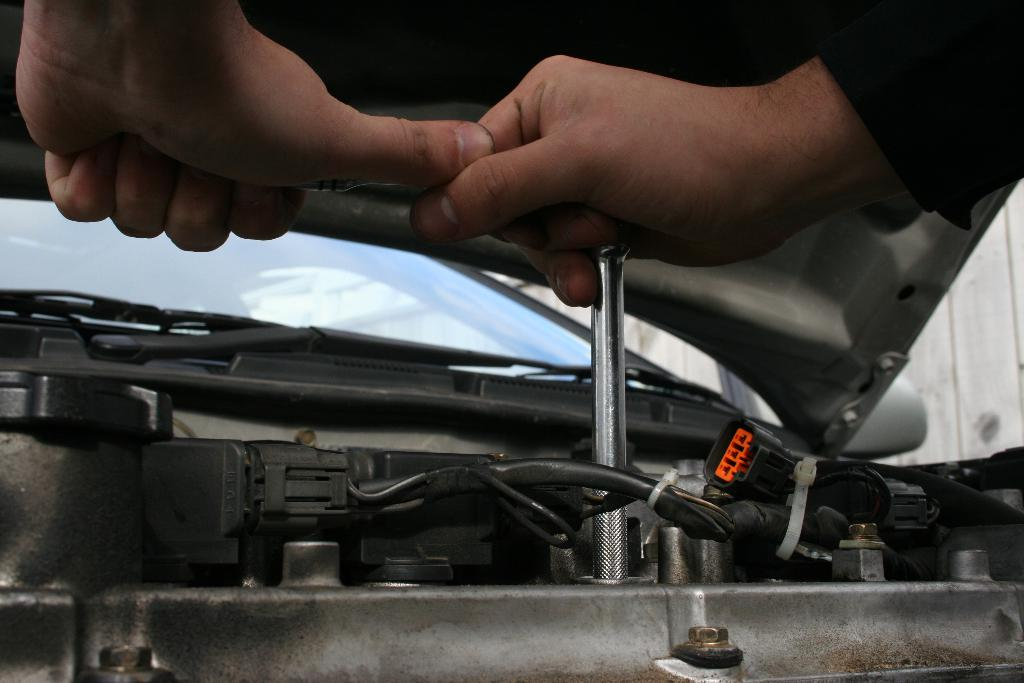Person: (15, 0, 1023, 307)
